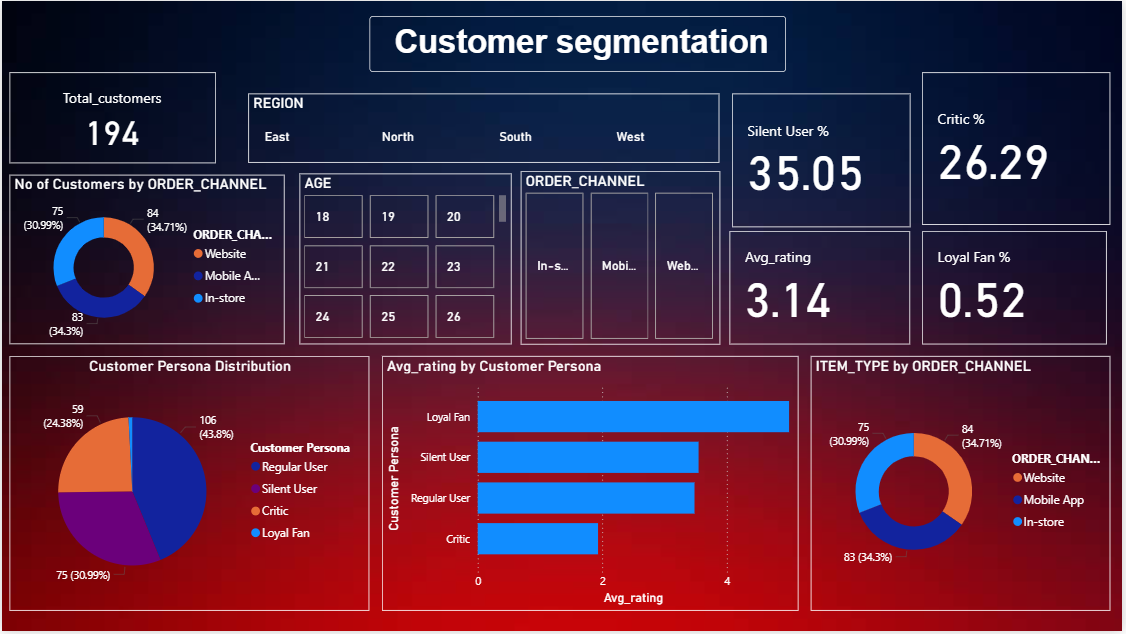

The dashboard page shown, as its layout file describes it:
{"tool":"powerbi","page":{"name":"milestone_4","canvas":[1280,720],"ordinal":3},"visuals":[{"type":"cardVisual","fields":{"Data":["unique_balaji_dataset_final_(1).Total_customers"]},"box":[9,80.8,235.9,103.8],"z":0},{"type":"advancedSlicerVisual","fields":{"Values":["unique_balaji_dataset_final_(1).REGION"]},"box":[282.1,105.1,538.5,79.5],"z":1000},{"type":"advancedSlicerVisual","fields":{"Values":["unique_balaji_dataset_final_(1).AGE"]},"box":[339.7,197.4,242.3,194.9],"z":2000},{"type":"advancedSlicerVisual","fields":{"Values":["unique_balaji_dataset_final_(1).ORDER_CHANNEL"]},"box":[592.3,193.6,228.2,198.7],"z":3000},{"type":"donutChart","title":"No of Customers by ORDER_CHANNEL","fields":{"Category":["unique_balaji_dataset_final_(1).ORDER_CHANNEL"],"Y":["CountNonNull(unique_balaji_dataset_final_(1).CUSTOMER_ID)"]},"box":[9,198.7,314.1,193.6],"z":4000},{"type":"donutChart","title":"ITEM_TYPE by ORDER_CHANNEL","fields":{"Category":["unique_balaji_dataset_final_(1).ORDER_CHANNEL"],"Y":["CountNonNull(unique_balaji_dataset_final_(1).ITEM_TYPE)"]},"box":[924.4,406.4,342.3,291],"z":5000},{"type":"barChart","fields":{"Y":["unique_balaji_dataset_final_(1).Avg_rating"],"Category":["unique_balaji_dataset_final_(1).Customer Segment"]},"box":[434.6,406.4,475.6,291],"z":6000},{"type":"cardVisual","fields":{"Data":["unique_balaji_dataset_final_(1).Avg_rating"]},"box":[832.1,262.8,206.4,129.5],"z":7000},{"type":"cardVisual","fields":{"Data":["unique_balaji_dataset_final_(1).Silent User %"]},"box":[834.6,105.1,203.8,152.6],"z":8000},{"type":"cardVisual","fields":{"Data":["unique_balaji_dataset_final_(1).Loyal Fan %"]},"box":[1051.3,262.8,211.5,129.5],"z":9000},{"type":"cardVisual","fields":{"Data":["unique_balaji_dataset_final_(1).Critic %"]},"box":[1051.3,80.8,215.4,174.4],"z":10000},{"type":"pieChart","title":"Customer Persona Distribution","fields":{"Category":["unique_balaji_dataset_final_(1).Customer Persona"],"Y":["CountNonNull(unique_balaji_dataset_final_(1).CUSTOMER_ID)"]},"box":[9,406.4,411.5,291],"z":11000},{"type":"textbox","box":[420,17.1,475.7,64.3],"z":11001}]}

Visuals, with their boxes in screenshot pixels (x1, y1, x2, y2), scaled from the page's 1280x720 canvas onto the 1126x634 screenshot:
cardVisual - unique_balaji_dataset_final_(1).Total_customers: <box>8,71,215,163</box>
advancedSlicerVisual - unique_balaji_dataset_final_(1).REGION: <box>248,93,722,163</box>
advancedSlicerVisual - unique_balaji_dataset_final_(1).AGE: <box>299,174,512,345</box>
advancedSlicerVisual - unique_balaji_dataset_final_(1).ORDER_CHANNEL: <box>521,170,722,345</box>
"No of Customers by ORDER_CHANNEL" donutChart: <box>8,175,284,345</box>
"ITEM_TYPE by ORDER_CHANNEL" donutChart: <box>813,358,1114,614</box>
barChart - unique_balaji_dataset_final_(1).Avg_rating x unique_balaji_dataset_final_(1).Customer Segment: <box>382,358,801,614</box>
cardVisual - unique_balaji_dataset_final_(1).Avg_rating: <box>732,231,914,345</box>
cardVisual - unique_balaji_dataset_final_(1).Silent User %: <box>734,93,913,227</box>
cardVisual - unique_balaji_dataset_final_(1).Loyal Fan %: <box>925,231,1111,345</box>
cardVisual - unique_balaji_dataset_final_(1).Critic %: <box>925,71,1114,225</box>
"Customer Persona Distribution" pieChart: <box>8,358,370,614</box>
textbox: <box>369,15,788,72</box>
